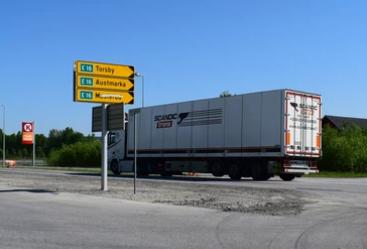vehicle: (106, 89, 322, 180)
